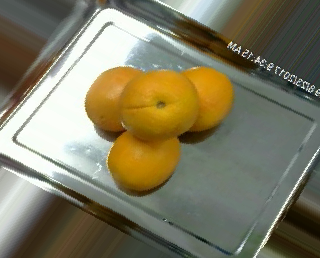Orange: (117, 68, 198, 141), (108, 126, 182, 190), (85, 66, 150, 131), (168, 66, 234, 130)
